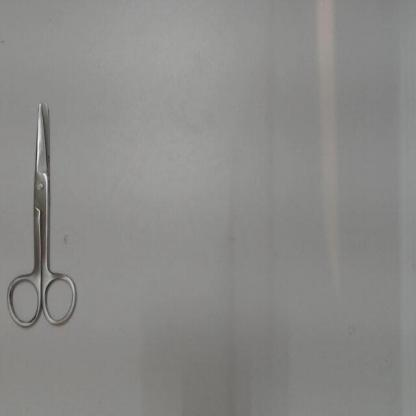Dressing Scissors: (0, 90, 88, 336)
